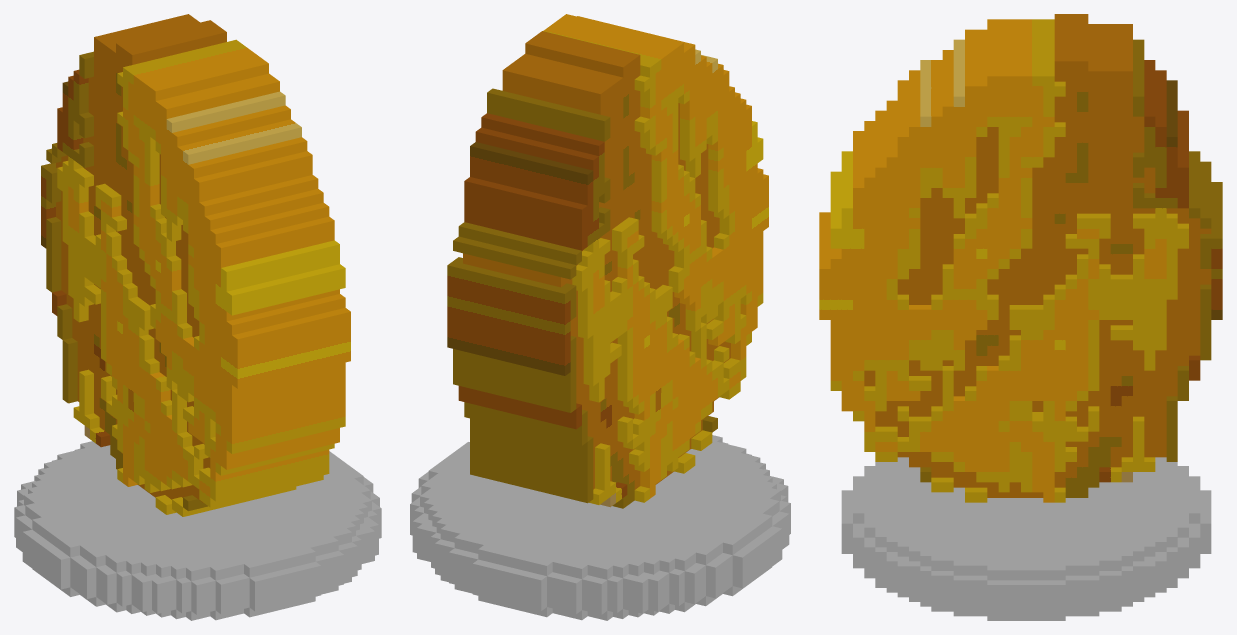
3 renders of one model, left to right at view 1: azimuth 30°, elevation 25°; view 2: azimuth 150°, elevation 25°; view 3: azimuth 270°, elevation 25°, orthographic. The views are drawn at different scales.
Parts seen in each view (by area): view 1: Object; view 2: Object; view 3: Object.
Part boxes in pixels (x1,y1,x2,y2): Object: [14, 14, 381, 620]; Object: [410, 14, 790, 620]; Object: [819, 14, 1222, 620].
Bounding box in the file's own units: 33 × 50 × 36.
Materials: 1 (1 with a texture image).
